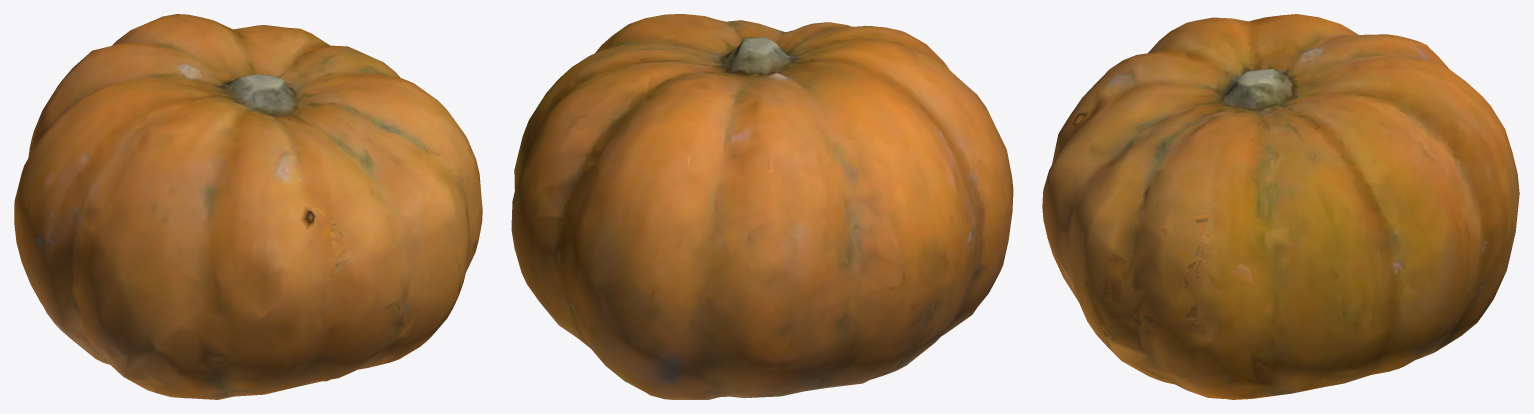
Rendered from crop-pumpkin.glb.
The picture shows the model from 3 angles, left to right: view 1: azimuth 30°, elevation 25°; view 2: azimuth 150°, elevation 25°; view 3: azimuth 270°, elevation 25°; orthographic projection. The views are drawn at different scales.
Visible parts, largest first — view 1: scan-0; view 2: scan-0; view 3: scan-0.
Boxes of the visible parts, left/top/right/bottom form: scan-0: left=14, top=14, right=482, bottom=399; scan-0: left=511, top=14, right=1013, bottom=399; scan-0: left=1042, top=14, right=1519, bottom=399.
Bounding box in the file's own units: 1.63 × 1.13 × 1.67.
Materials: 1 (1 with a texture image).
